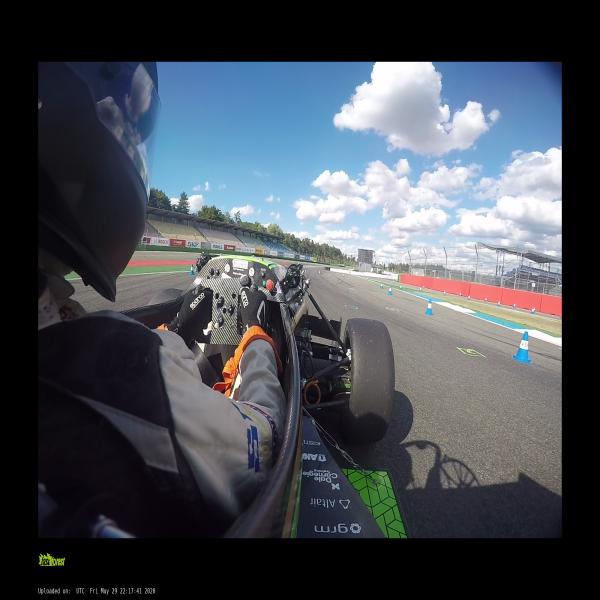blue_cone: (513, 331, 531, 363), (424, 298, 433, 315), (189, 264, 194, 274), (380, 282, 384, 289), (389, 286, 392, 294), (399, 284, 402, 290), (513, 303, 516, 309), (498, 301, 500, 307), (532, 308, 534, 314), (468, 295, 470, 301), (459, 292, 462, 296), (444, 290, 446, 296), (420, 287, 422, 292), (318, 270, 320, 275), (485, 298, 487, 302), (393, 280, 395, 284)
